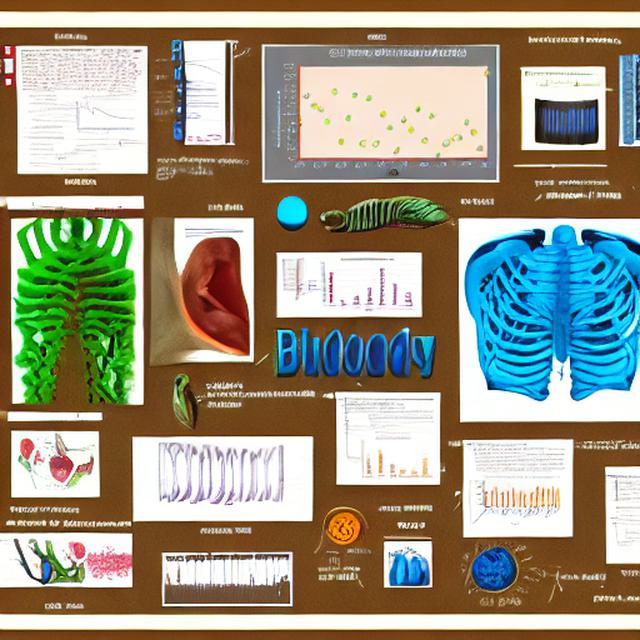Graph: (272, 50, 497, 180), (306, 257, 415, 314), (467, 474, 561, 528), (349, 436, 431, 483), (70, 95, 134, 135), (538, 101, 599, 137)
